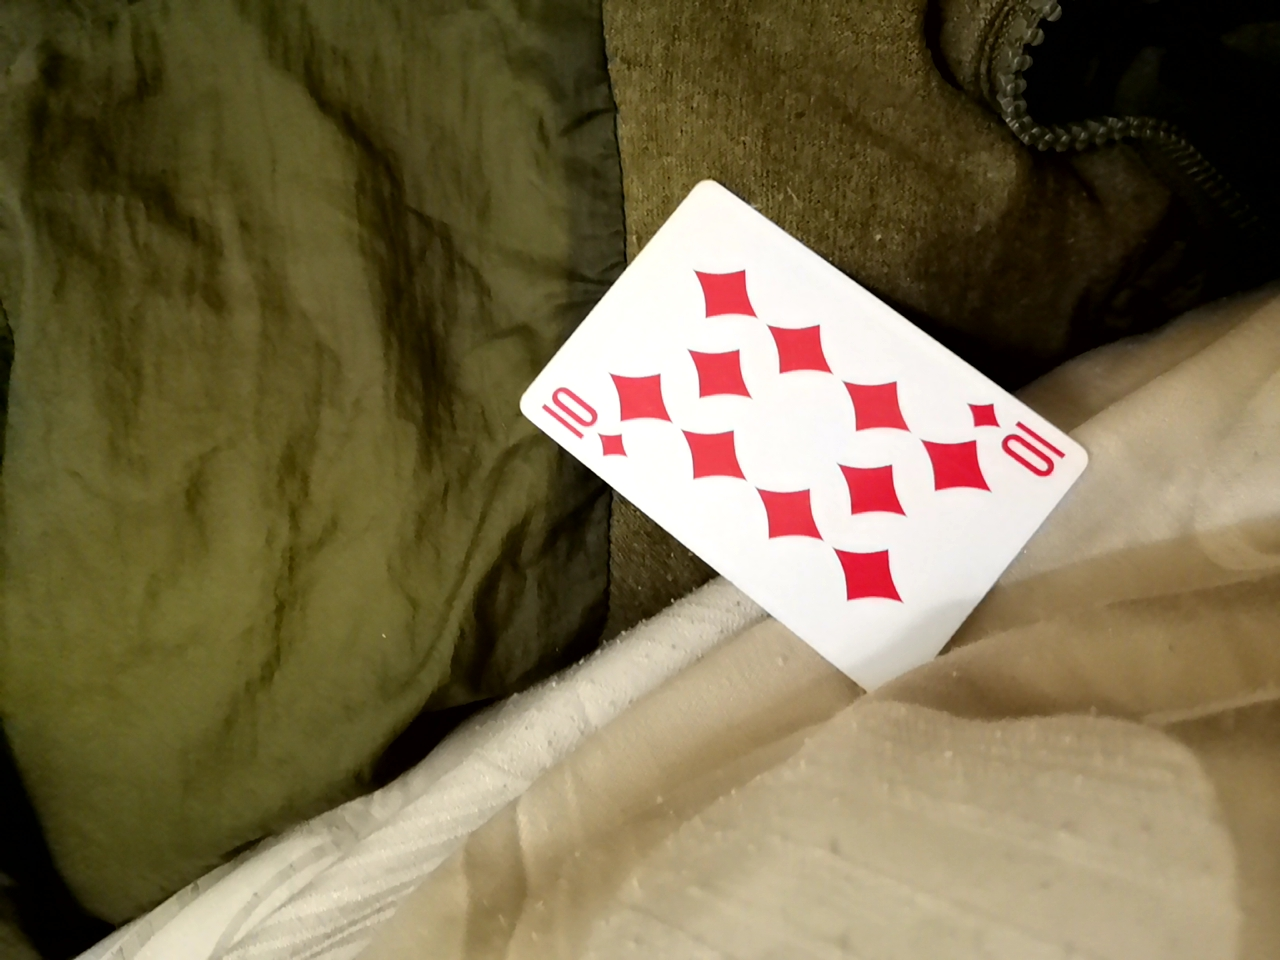fk 10: (493, 215, 1091, 700)
